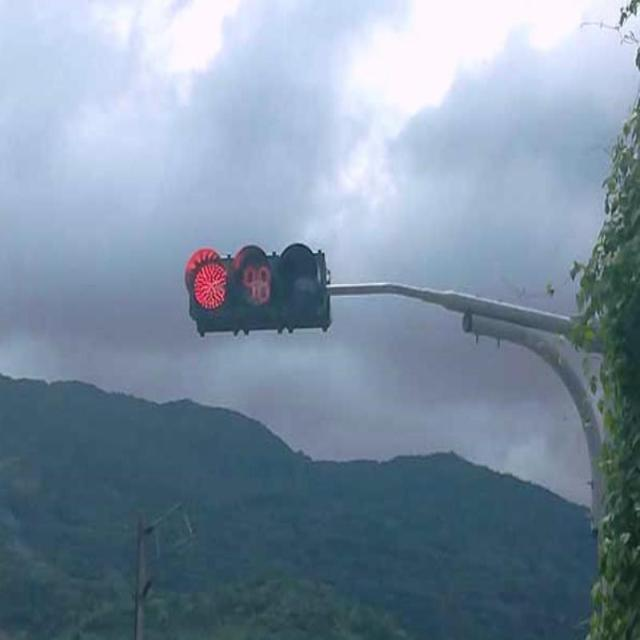red light: (187, 244, 333, 336)
